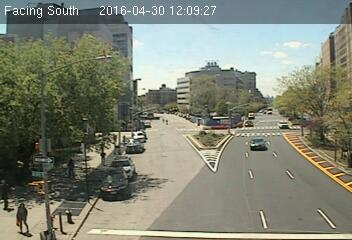neg: (27, 166, 51, 199), (29, 78, 52, 108), (34, 130, 55, 158), (41, 211, 60, 237), (74, 54, 91, 77), (95, 47, 112, 70), (51, 68, 66, 88), (33, 110, 47, 129)
pos: (10, 200, 36, 234), (61, 156, 81, 182)
